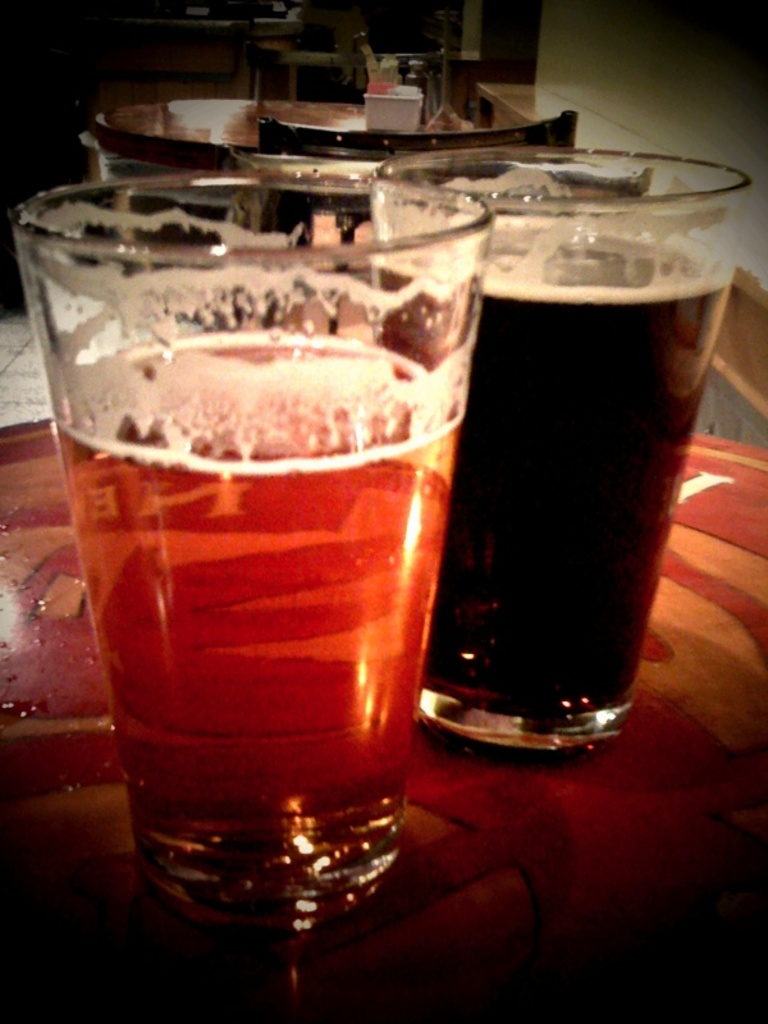Beer: (57, 328, 464, 833)
